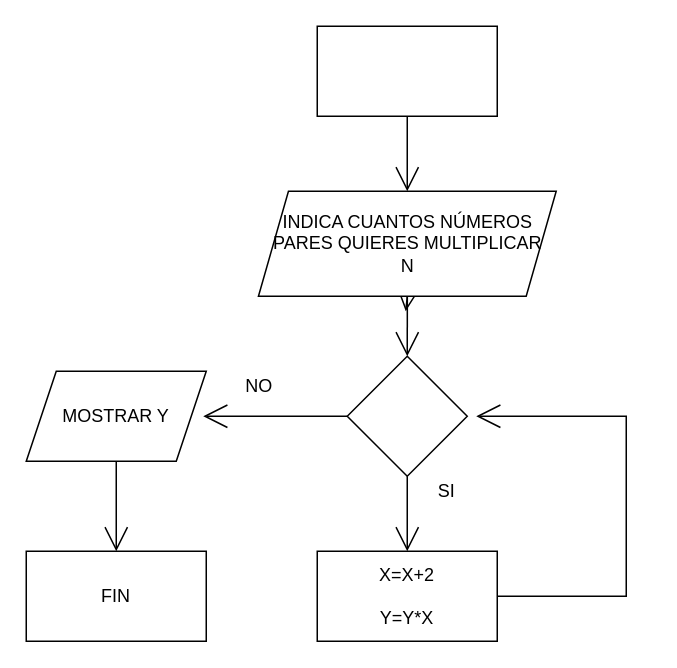
Some shapes in this 677 by 668 pixel diagram are drawn without their labels. Here are the shapes that lost their labels. From the top down, the centre of each, then its label:
At [406,70]: "INICIO".
At [406,415]: "X<N".
